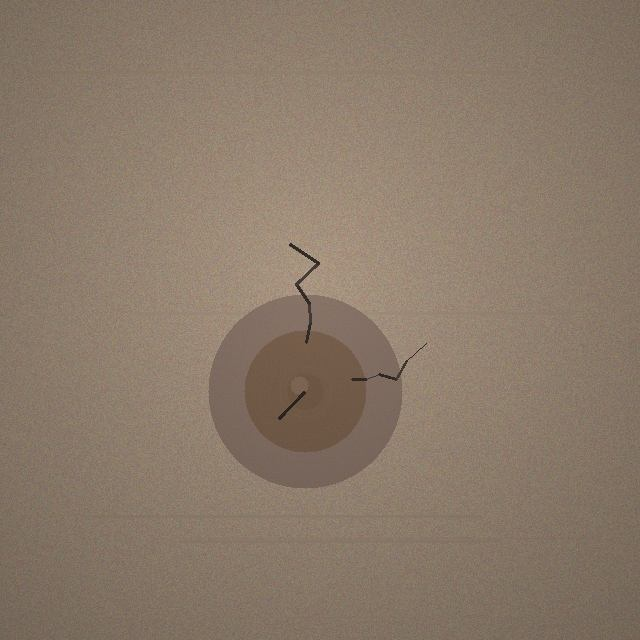crack: (208, 294, 402, 488)
